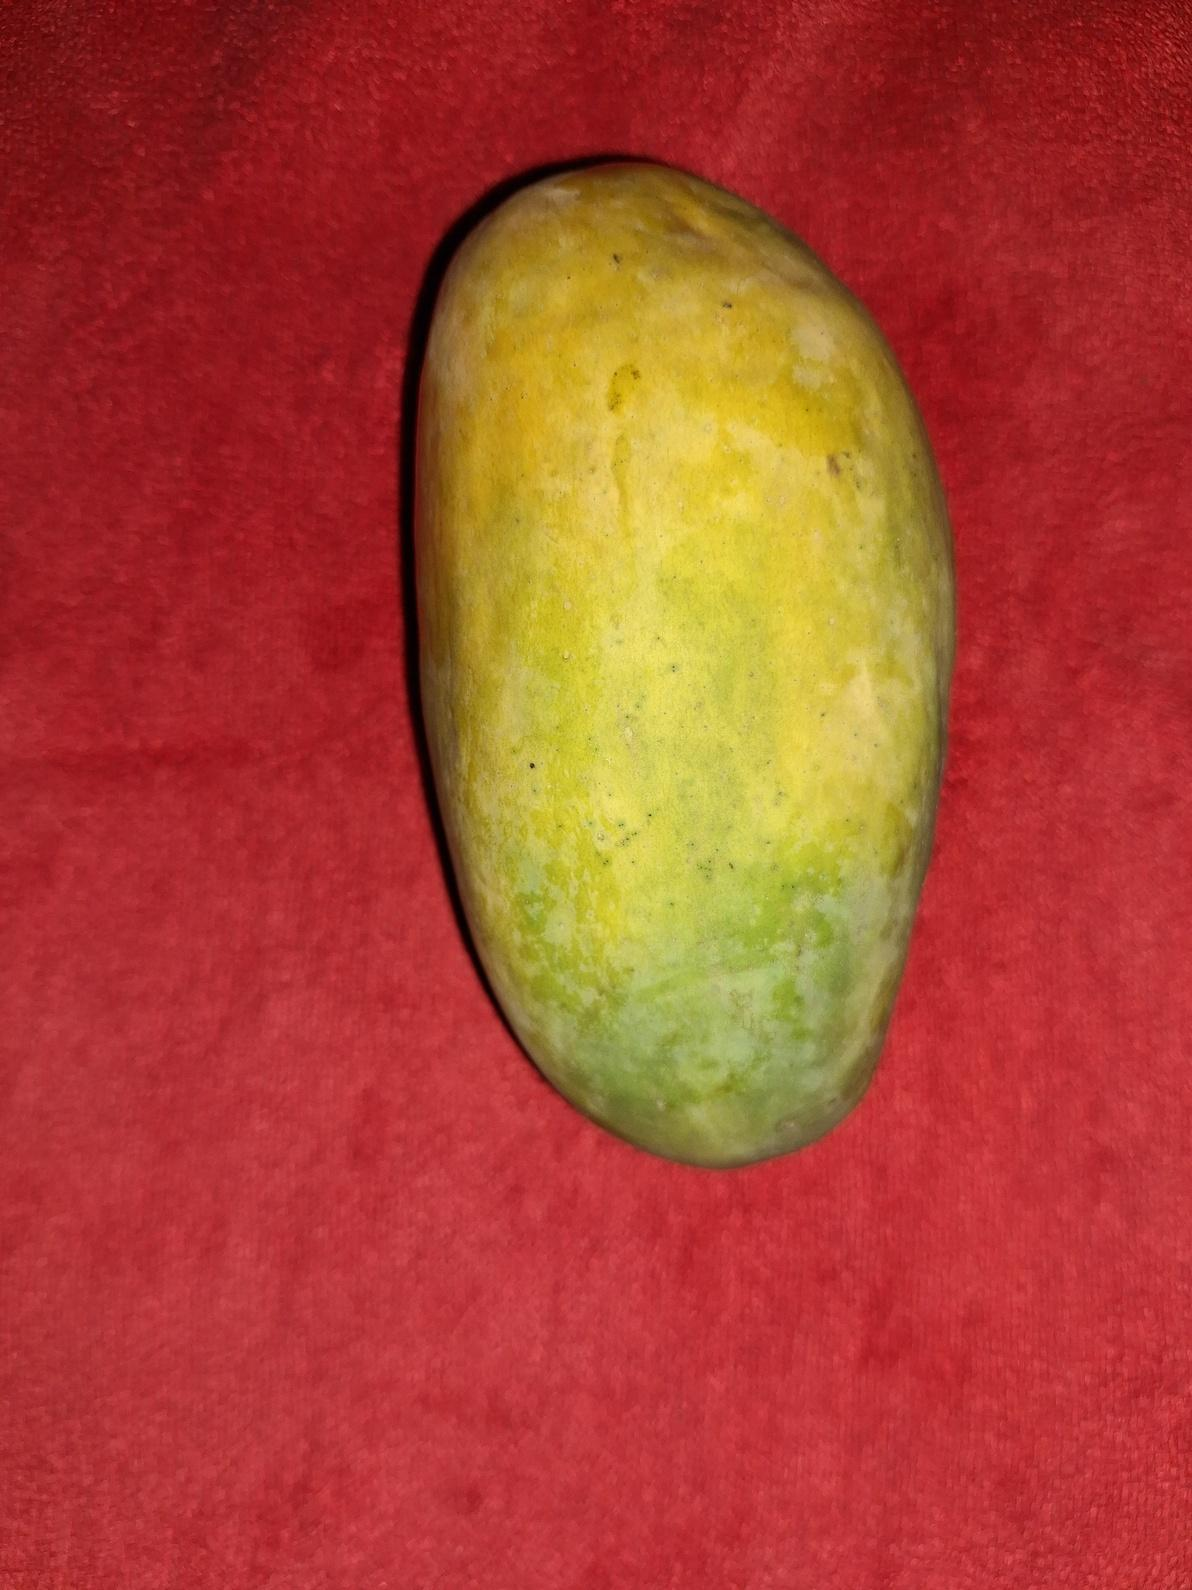mango: (408, 156, 957, 1171)
